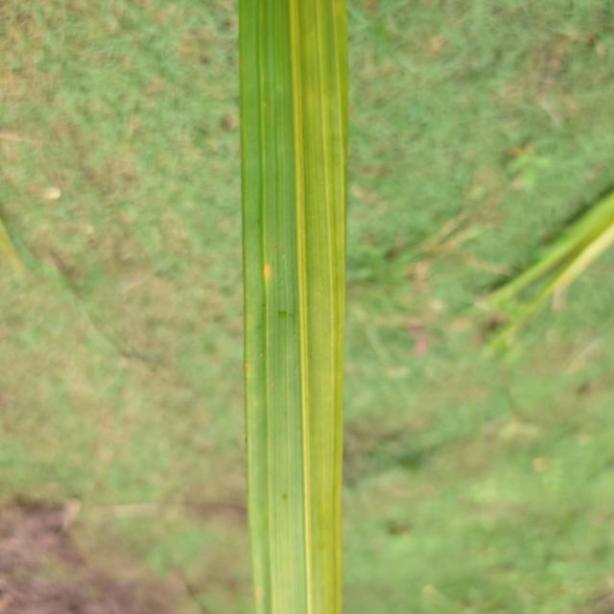nitrogen: (232, 0, 344, 614)
